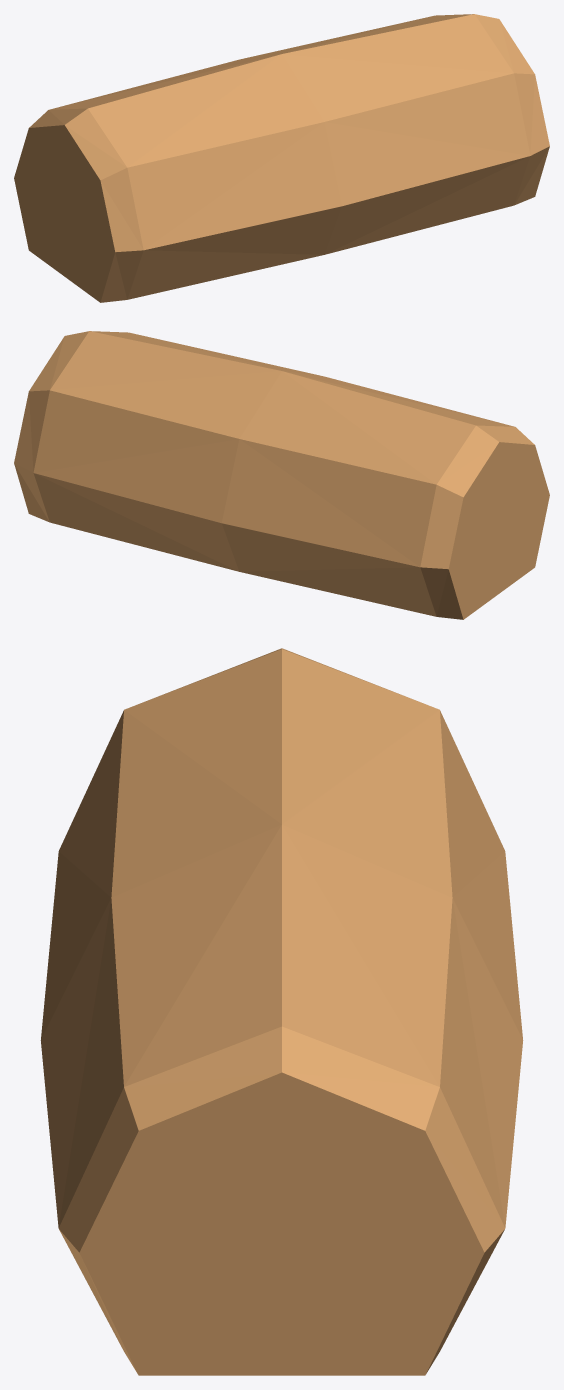
The model's file is beefWellington.fbx.
3 renders of one model, top to bottom at view 1: azimuth 30°, elevation 25°; view 2: azimuth 150°, elevation 25°; view 3: azimuth 270°, elevation 25°, orthographic. The views are drawn at different scales.
Parts seen in each view (by area): view 1: beefWellington; view 2: beefWellington; view 3: beefWellington.
Boxes of the visible parts, x1,y1,x2,y2 form: beefWellington: (14,14,549,302); beefWellington: (14,331,549,619); beefWellington: (40,648,523,1375).
Bounding box in the file's own units: 30.32 × 11.31 × 14.57.
1 material, 1 textured.
